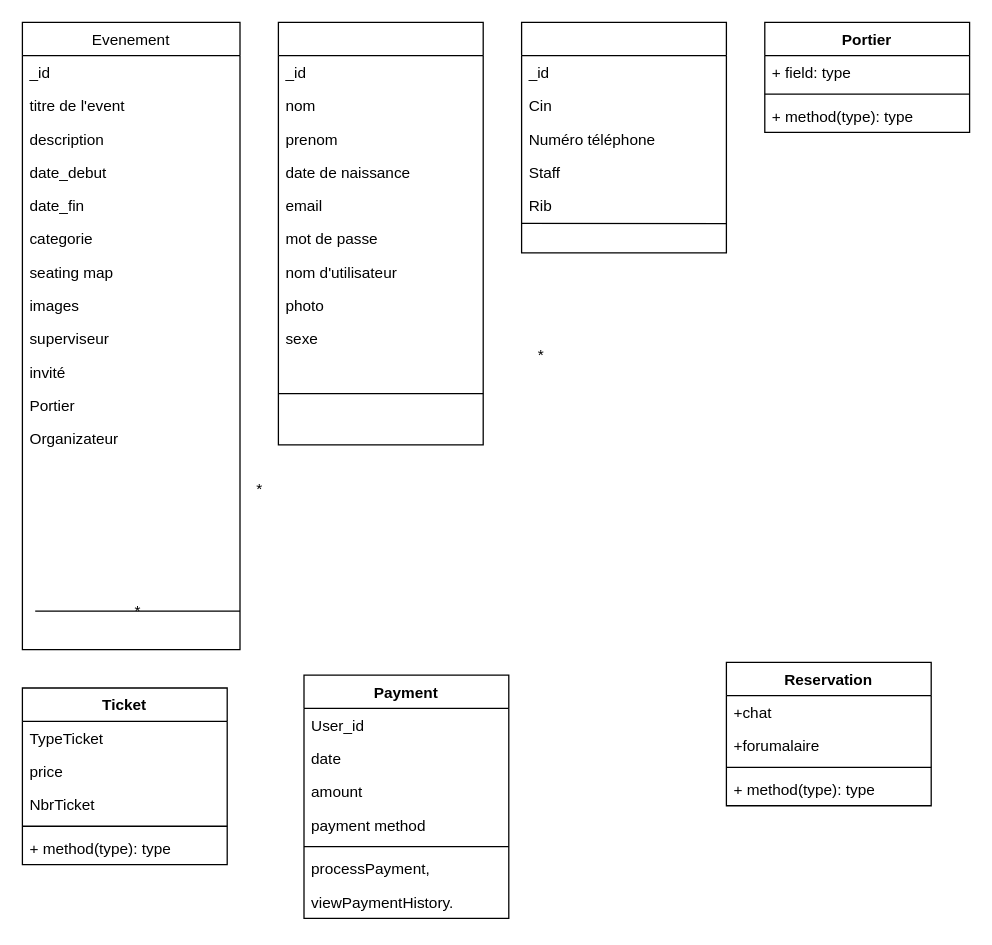
The diagram is 992 pixels wide and 945 high, and some of its shapes have lost their labels. Here are the shapes that lost their labels. From the top down, the box of each, then its label:
(520, 21, 726, 253): Organisateur
(277, 21, 483, 445): Client
